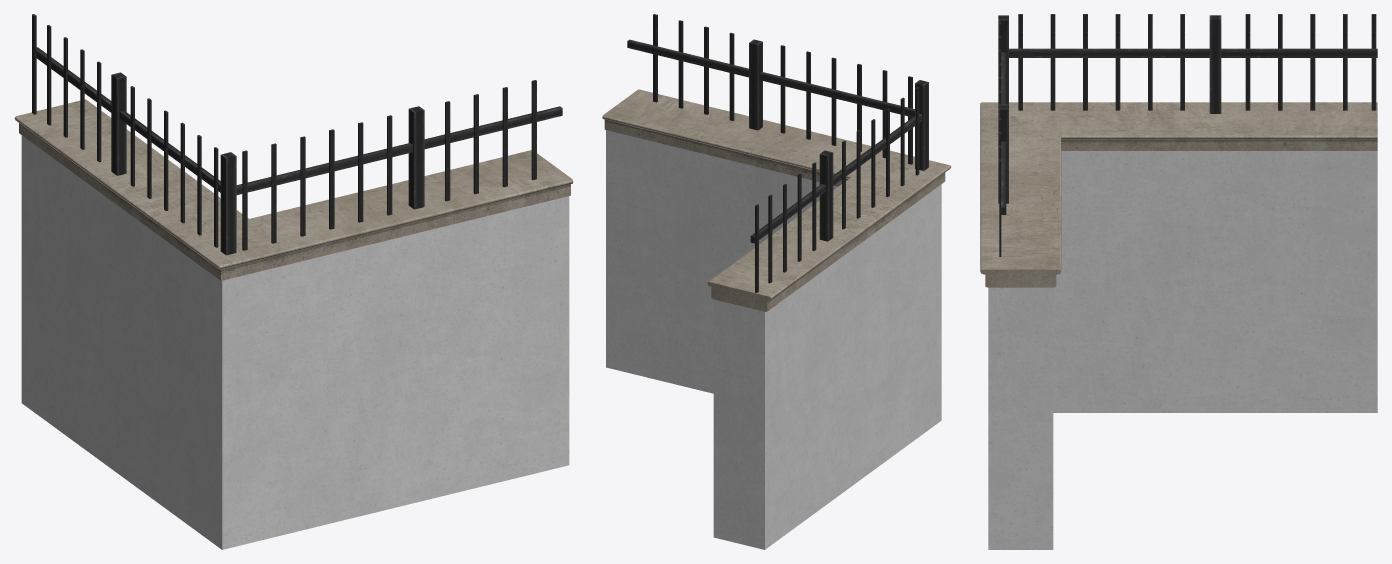
Rendered from MB_Fence_B_Angle.fbx.
3 views of the same model, side by side, from view 1: azimuth 30°, elevation 25°; view 2: azimuth 150°, elevation 25°; view 3: azimuth 270°, elevation 25° (orthographic). The views are drawn at different scales.
Visible parts, largest first — view 1: MB_Fence_B_Angle_LOD0; view 2: MB_Fence_B_Angle_LOD0; view 3: MB_Fence_B_Angle_LOD0.
Part boxes in pixels (x1=…): MB_Fence_B_Angle_LOD0: x1=14, y1=14, x2=573, y2=549; MB_Fence_B_Angle_LOD0: x1=602, y1=14, x2=951, y2=549; MB_Fence_B_Angle_LOD0: x1=980, y1=14, x2=1377, y2=549.
Size of what is drawn, in the model's own units: 245 by 256 by 245.
